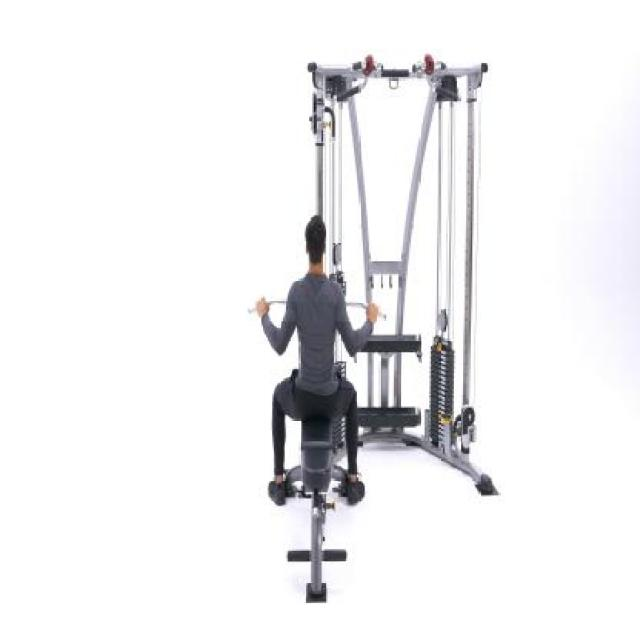Lat Pull Down: (250, 34, 508, 608)
